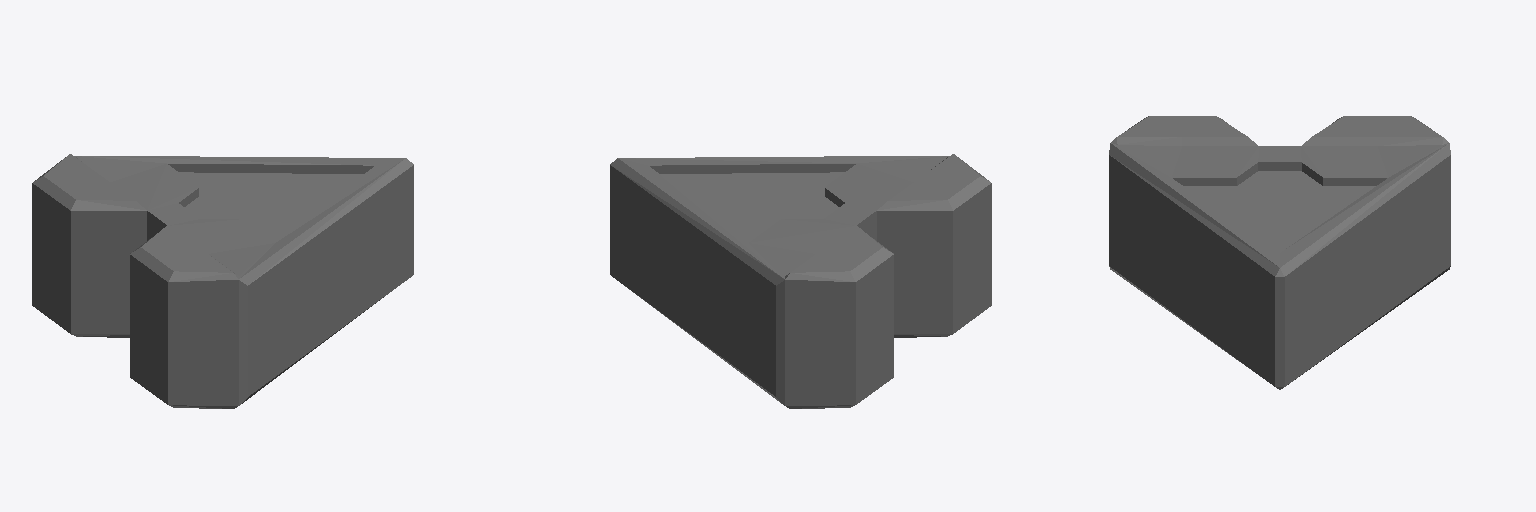
Rendered from Shilling.obj.
3 renders of one model, left to right at view 1: azimuth 30°, elevation 25°; view 2: azimuth 150°, elevation 25°; view 3: azimuth 270°, elevation 25°, orthographic.
Visible parts, largest first — view 1: Shilling2; view 2: Shilling2; view 3: Shilling2.
Boxes of the visible parts, x1,y1,x2,y2 form: Shilling2: [32, 154, 413, 408]; Shilling2: [610, 154, 991, 408]; Shilling2: [1109, 116, 1450, 389].
Bounding box in the file's own units: 42.64 × 17.93 × 40.55.